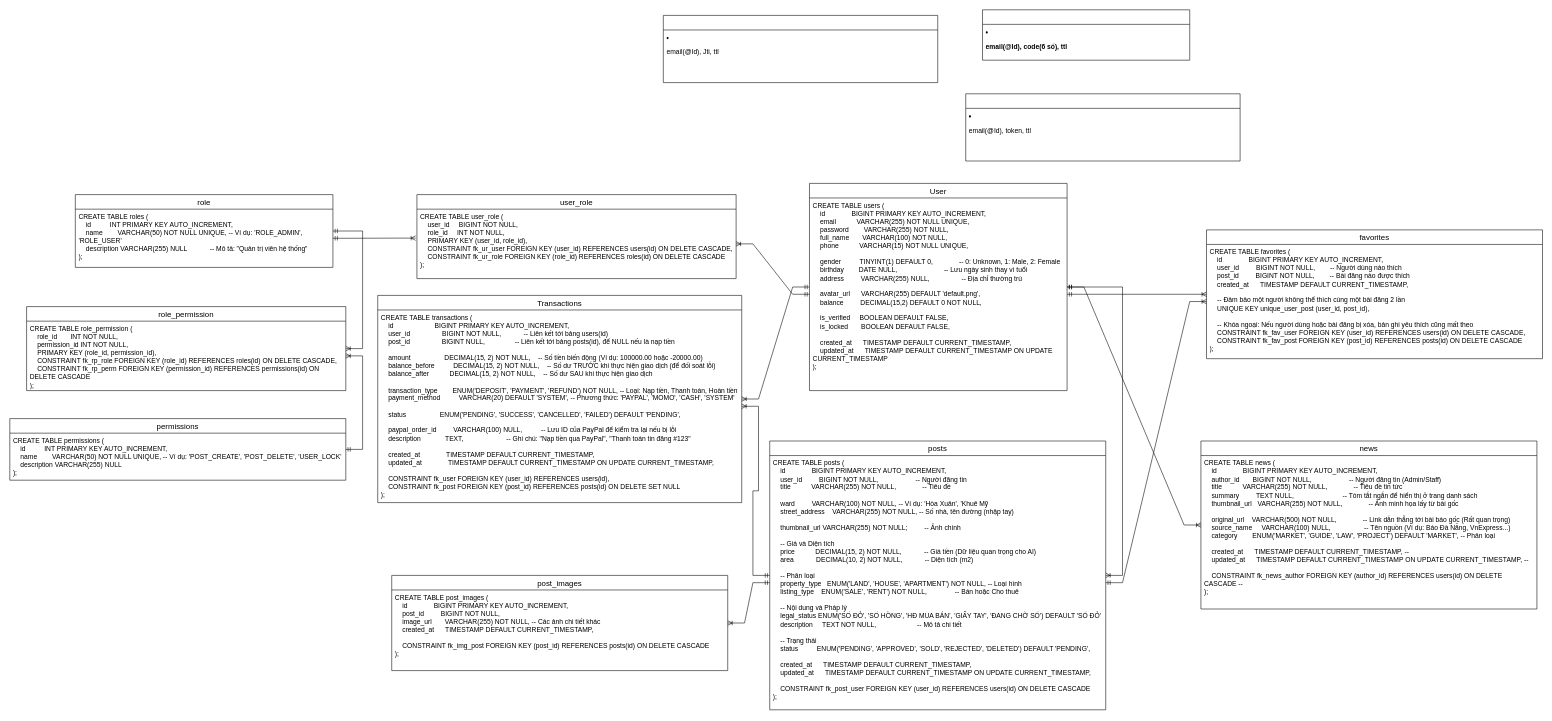
Image size: 1552x721. Some labels were removed from this diagram. Each missing label, with the box of its shape:
Redis_blacklist: (663, 15, 938, 83)
Redis_email_code: (982, 9, 1190, 60)
Redis_refresh_tokens: (965, 93, 1240, 161)
